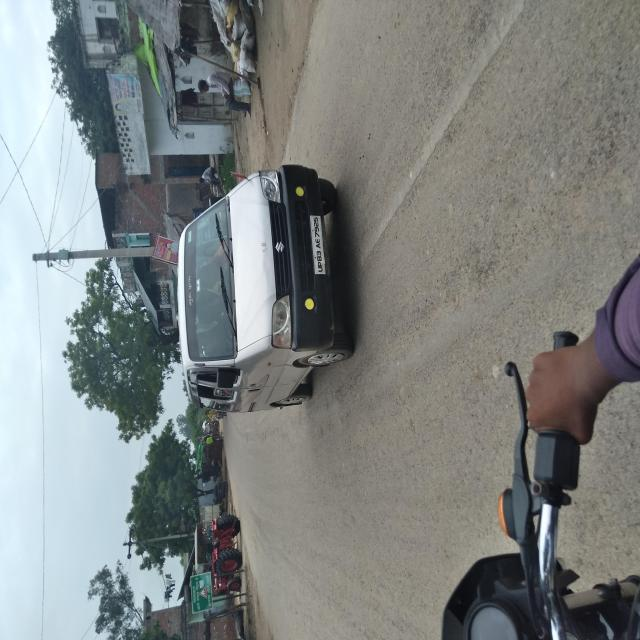plate: (306, 208, 330, 280)
